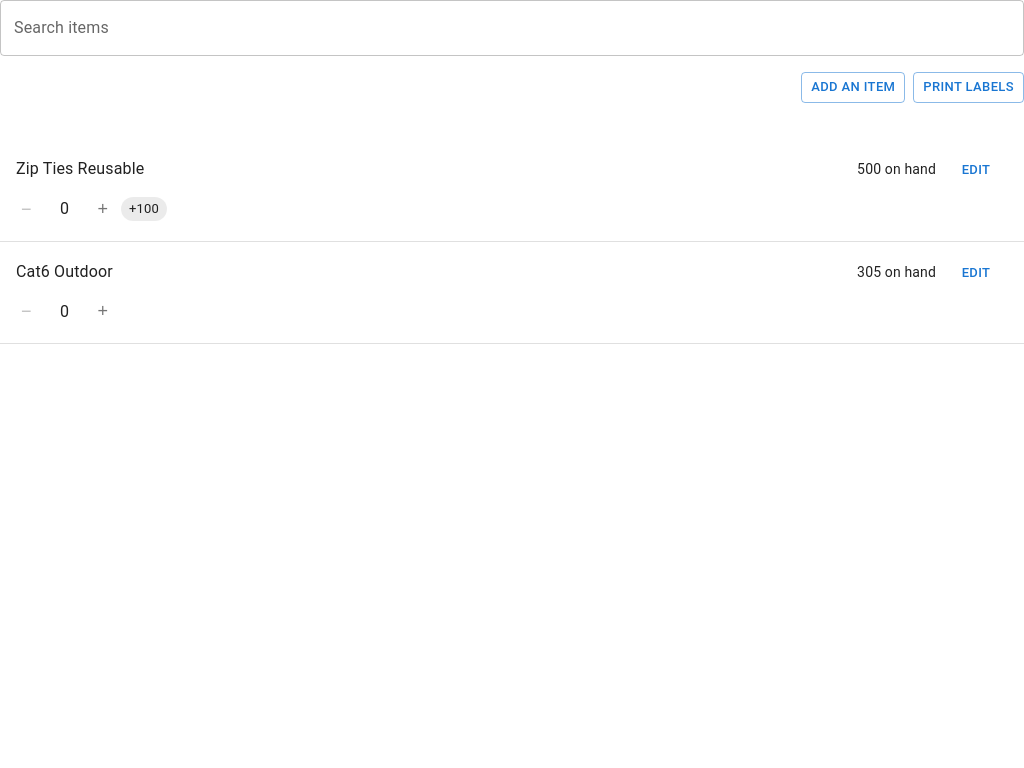
Test: a session the server wants a second look at › offers a way back in when the server refuses mid-edit
Expected: the heading "Zip Ties Reusable" is shown, [16, 155, 144, 183]
What coordinates should you click on to do the following:
click the button with aria-label "edit zip ties reusable"
I would click on:
 (976, 170)
Its box is [944, 155, 1008, 186].
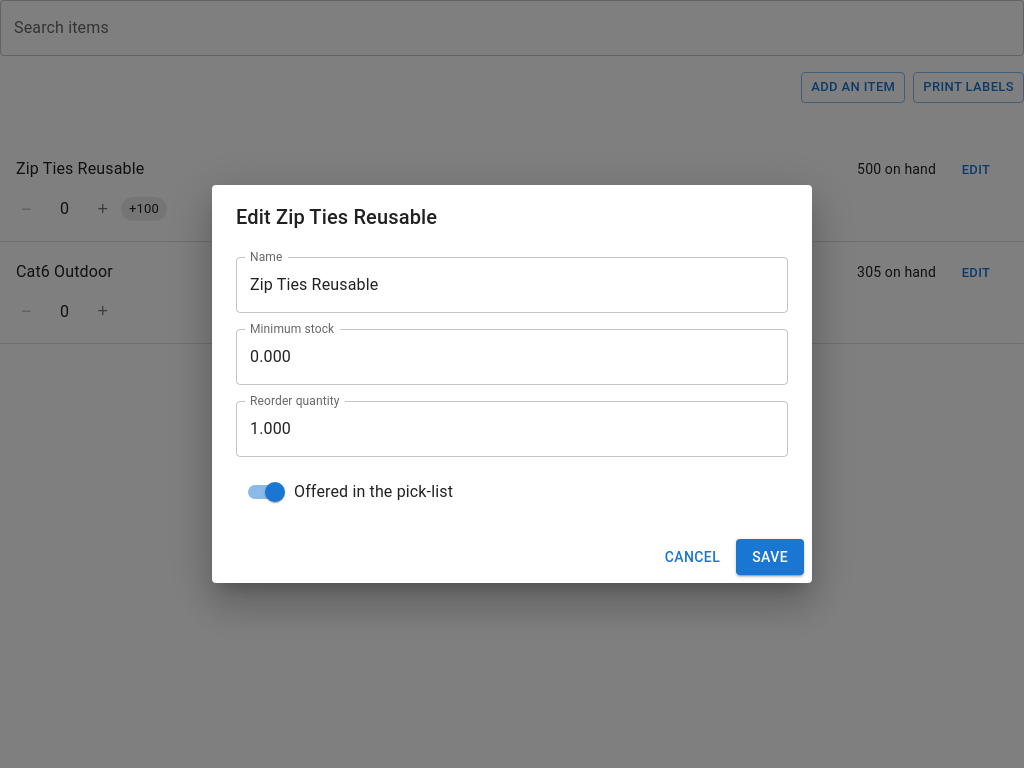
What coordinates should you click on to do the following:
click the button "Save"
I would click on:
 (770, 557)
Its box is [736, 539, 804, 575].
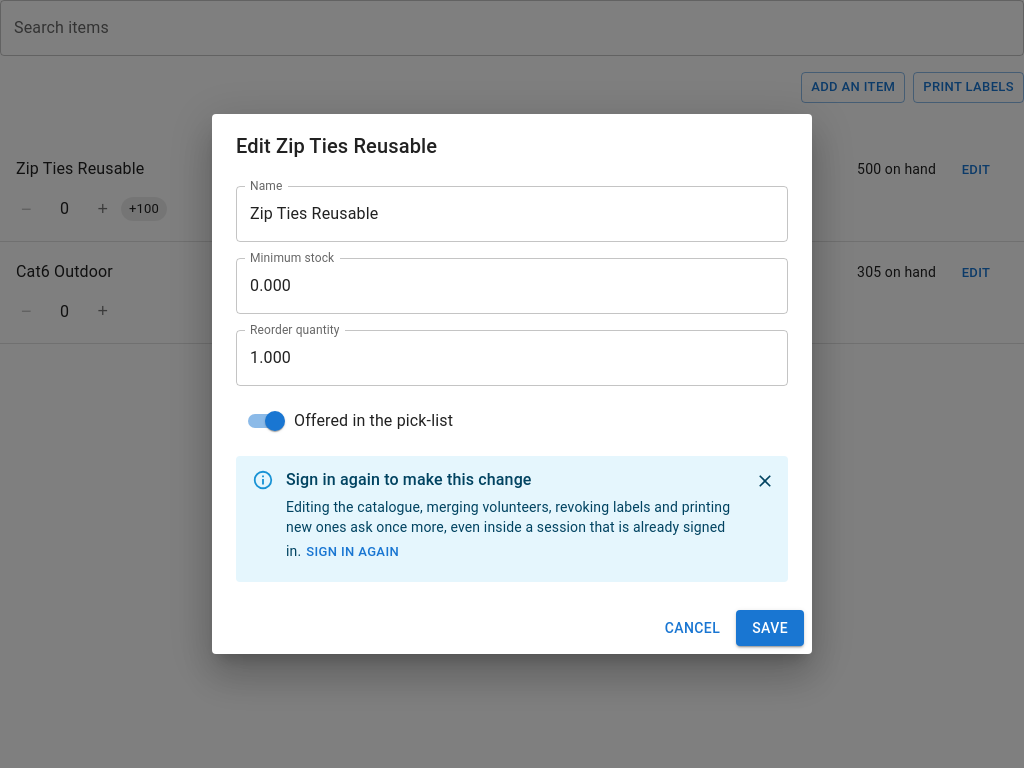
Expected: the text "Sign in again to make this change" is shown, [286, 470, 532, 489]
